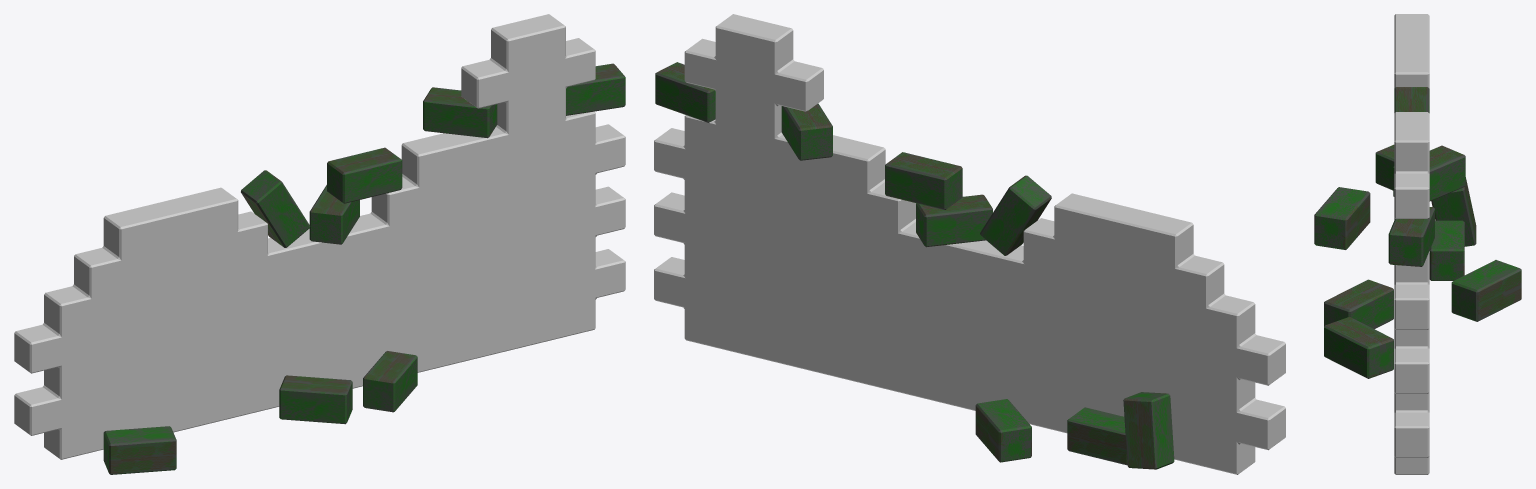
File: ruin numbero uno.fbx
3 renders of one model, left to right at view 1: azimuth 30°, elevation 25°; view 2: azimuth 150°, elevation 25°; view 3: azimuth 270°, elevation 25°, orthographic. The views are drawn at different scales.
Visible parts, largest first — view 1: SP_Ruinwalls, SP_Ruinstenar; view 2: SP_Ruinwalls, SP_Ruinstenar; view 3: SP_Ruinstenar, SP_Ruinwalls.
Boxes of the visible parts, bbox=[...] form: SP_Ruinwalls: bbox=[14, 14, 625, 459]; SP_Ruinstenar: bbox=[103, 63, 625, 474]; SP_Ruinwalls: bbox=[654, 14, 1285, 474]; SP_Ruinstenar: bbox=[655, 62, 1174, 469]; SP_Ruinstenar: bbox=[1314, 87, 1521, 378]; SP_Ruinwalls: bbox=[1394, 14, 1429, 474].
Bounding box in the file's own units: 201 × 100 × 58.75.
